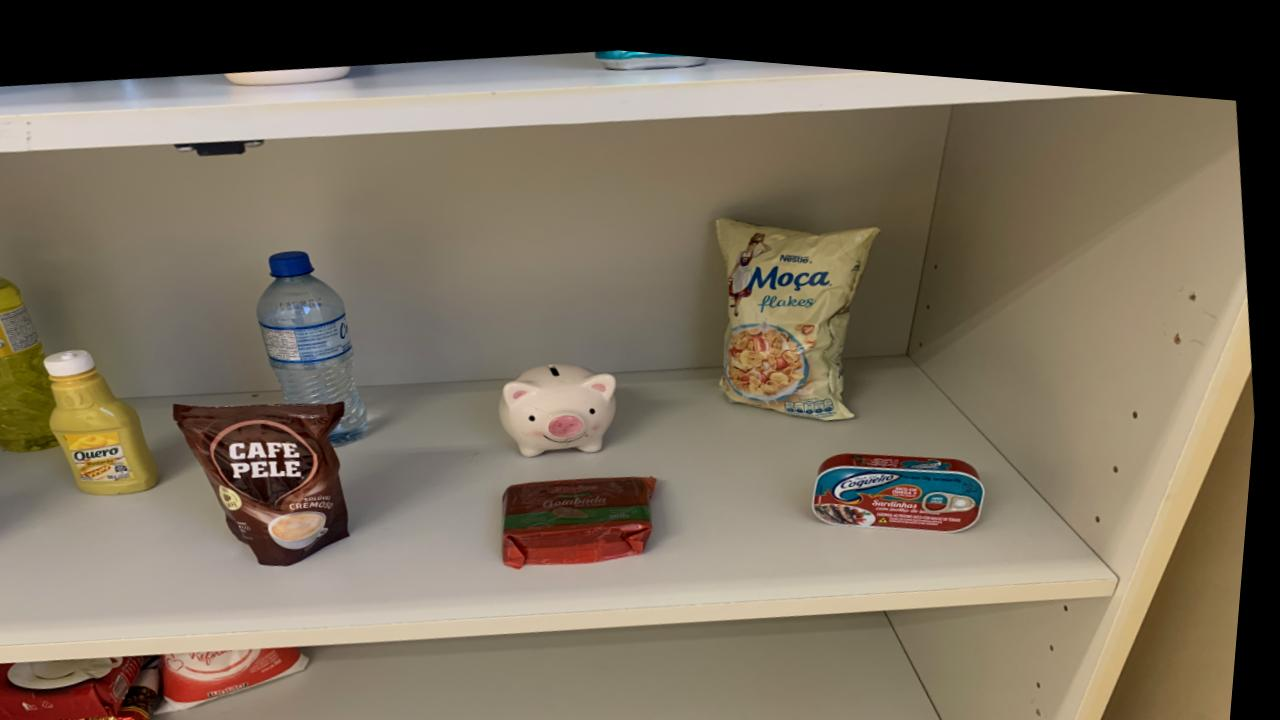Coffee-Pantry_Items: (180, 395, 358, 560)
Detergent-Cleanup_Items: (0, 274, 65, 450)
Flakes-Snacks: (718, 204, 882, 406)
Guava-Snacks: (510, 464, 663, 557)
Mayonnaise-Pantry_Items: (225, 60, 350, 81)
Mustard-Pantry_Items: (51, 347, 165, 492)
Pig_Safe-Miscellaneous: (504, 353, 622, 447)
Tea-Drinks: (595, 39, 708, 59)
Tuna_Can-Pantry_Items: (819, 437, 992, 515)
Water_Bottle-Drinks: (260, 246, 374, 437)
